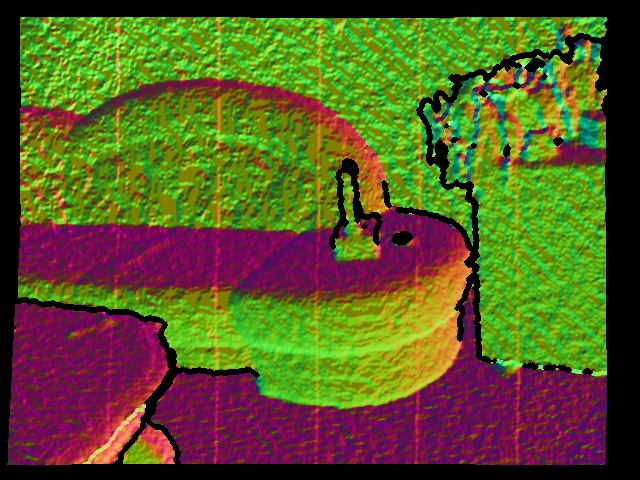station: (322, 166, 386, 259)
